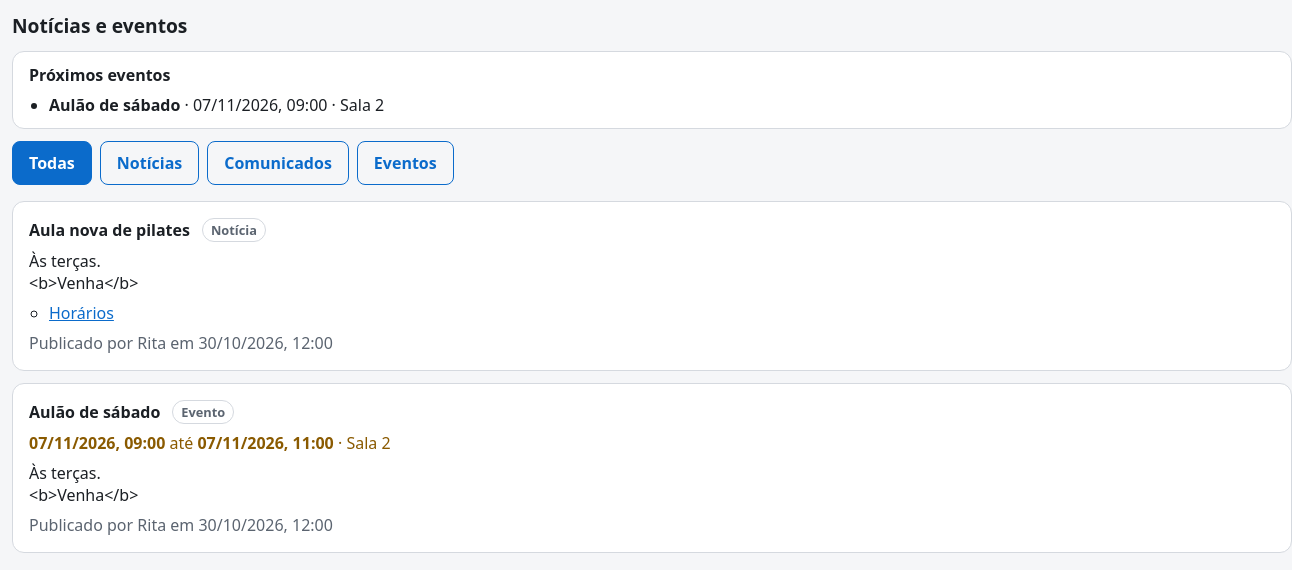
Test: notícias e eventos (ADR 0047) › filtra pelo tipo
The image size is (1292, 570).
Expected: the heading "Aula nova de pilates" is shown, [29,219,190,241]
Click the tab "Eventos" at (405, 163), box [357,141,454,185]
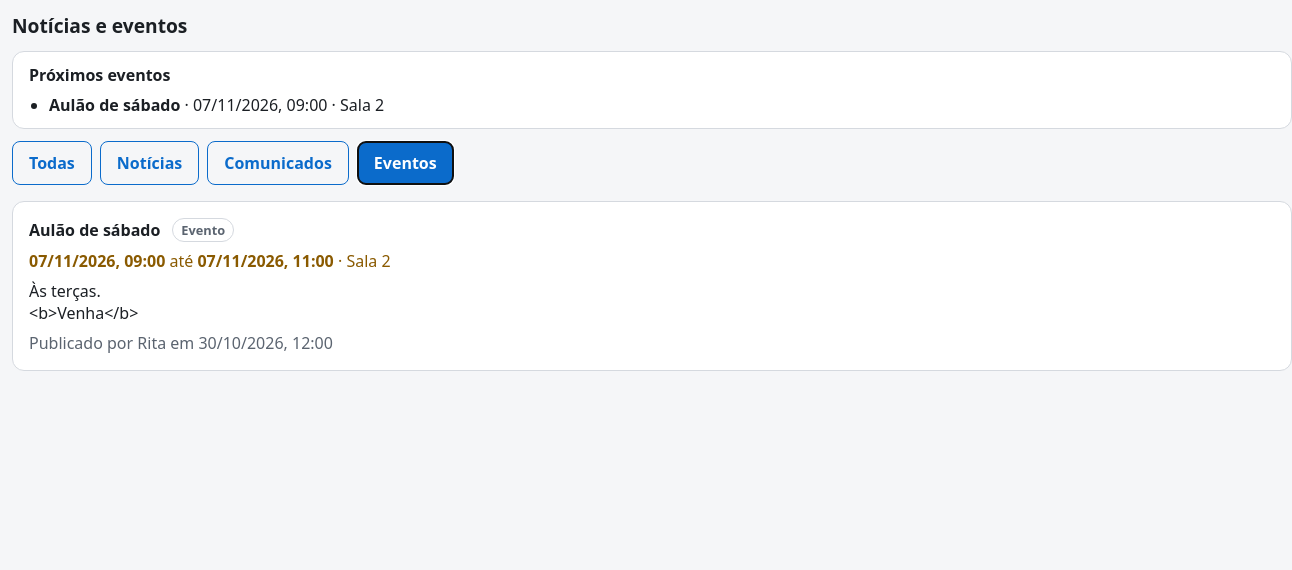
Expected: the heading "Aulão de sábado" is shown, [29,219,160,241]
Expected: the heading "Aula nova de pilates" is gone
